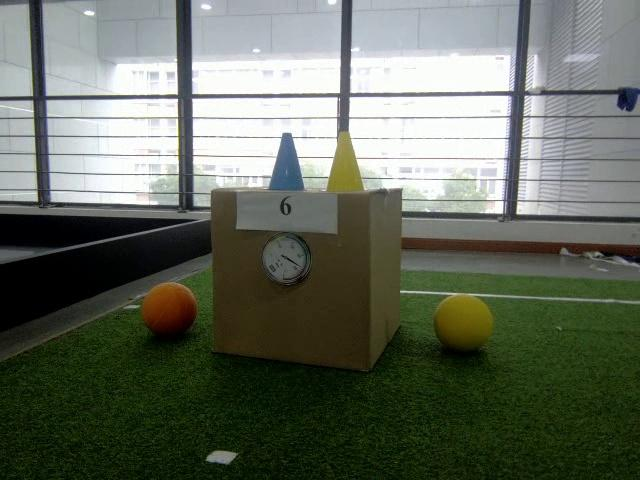6: (279, 196, 293, 217)
Dashboard: (260, 234, 313, 289)
blue_barrel: (267, 132, 305, 193)
orange_ball: (142, 281, 198, 337)
ssi: (268, 264, 278, 275)
yellow_ball: (435, 294, 494, 354)
yellow_barrel: (326, 131, 363, 192)
